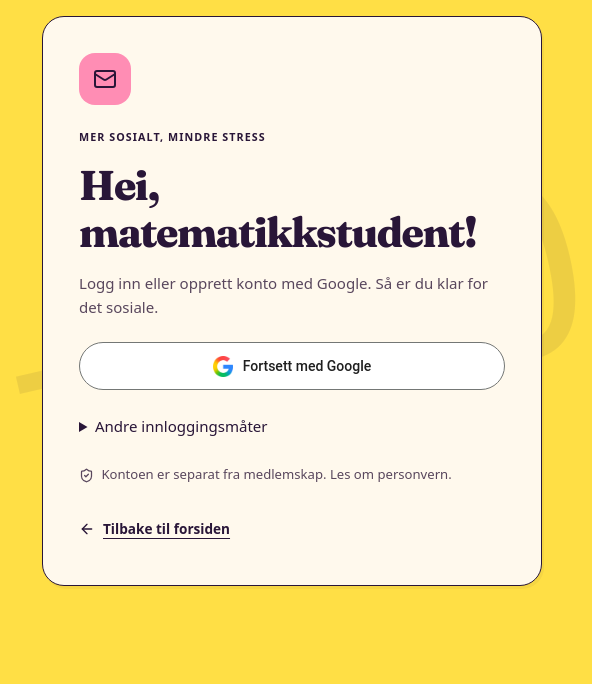
Scenario: development-only password sign-in › keeps the password form disabled with DEV=false and flag=true
Expected: the button "Fortsett med Google" is shown, [79, 342, 505, 390]
Click the heading "Andre innloggingsmåter" at (181, 426), box [95, 416, 268, 436]
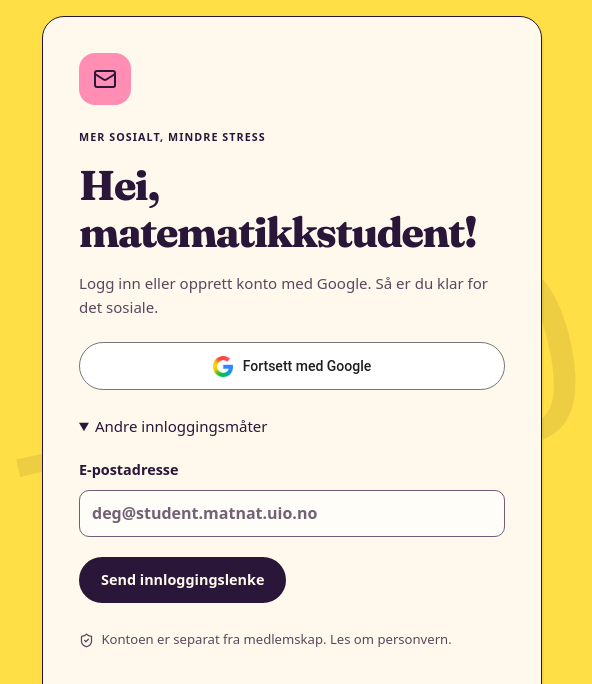
Expected: the button "Send innloggingslenke" is shown, [79, 557, 286, 603]
